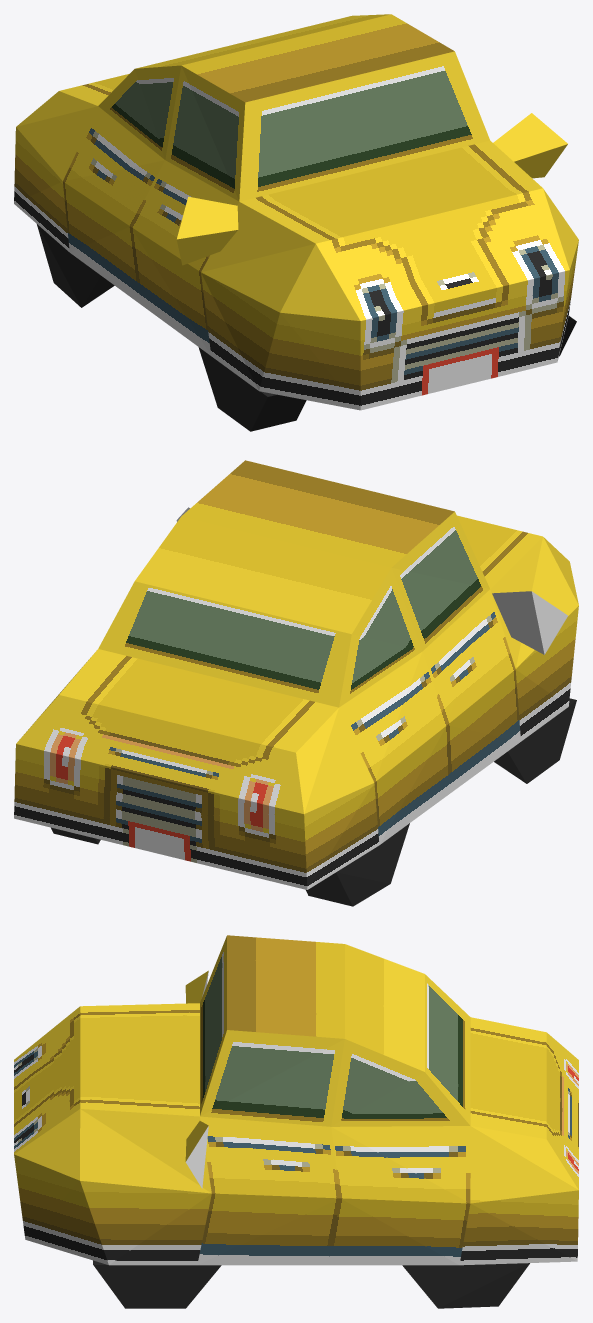
Rendered from MR_stage4-car_a.glb.
3 views of the same model, one above another, from view 1: azimuth 30°, elevation 25°; view 2: azimuth 150°, elevation 25°; view 3: azimuth 270°, elevation 25° (orthographic). The views are drawn at different scales.
Parts seen in each view (by area): view 1: car_a; view 2: car_a; view 3: car_a.
Part boxes in pixels (<box>): car_a: <box>14,14,578,431</box>; car_a: <box>14,460,578,906</box>; car_a: <box>14,935,578,1308</box>.
Bounding box in the file's own units: 1.86 × 1.26 × 2.52.
Materials: 1 (1 with a texture image).
